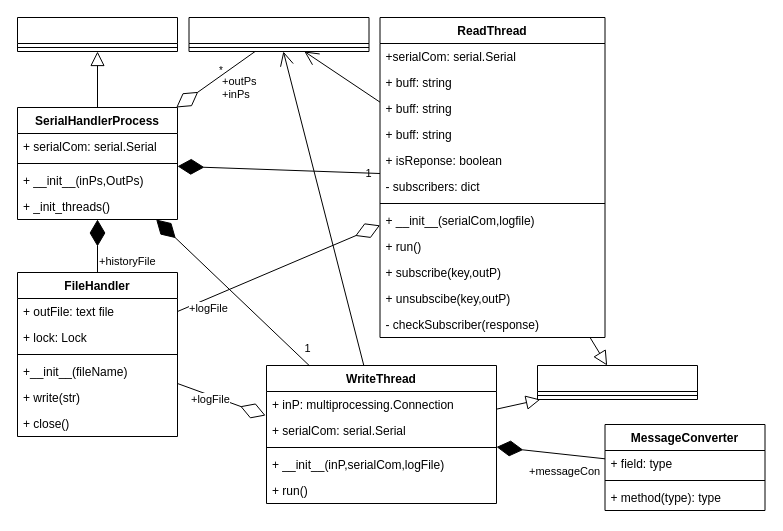
Some shapes in this 783 by 531 pixel diagram are drawn without their labels. Here are the shapes that lost their labels. From the top down, the centre of each, then its label:
At pixel 97 34: "WorkerProcess".
At pixel 278 34: "multiprocessing.Connection".
At pixel 617 382: "Thread".
